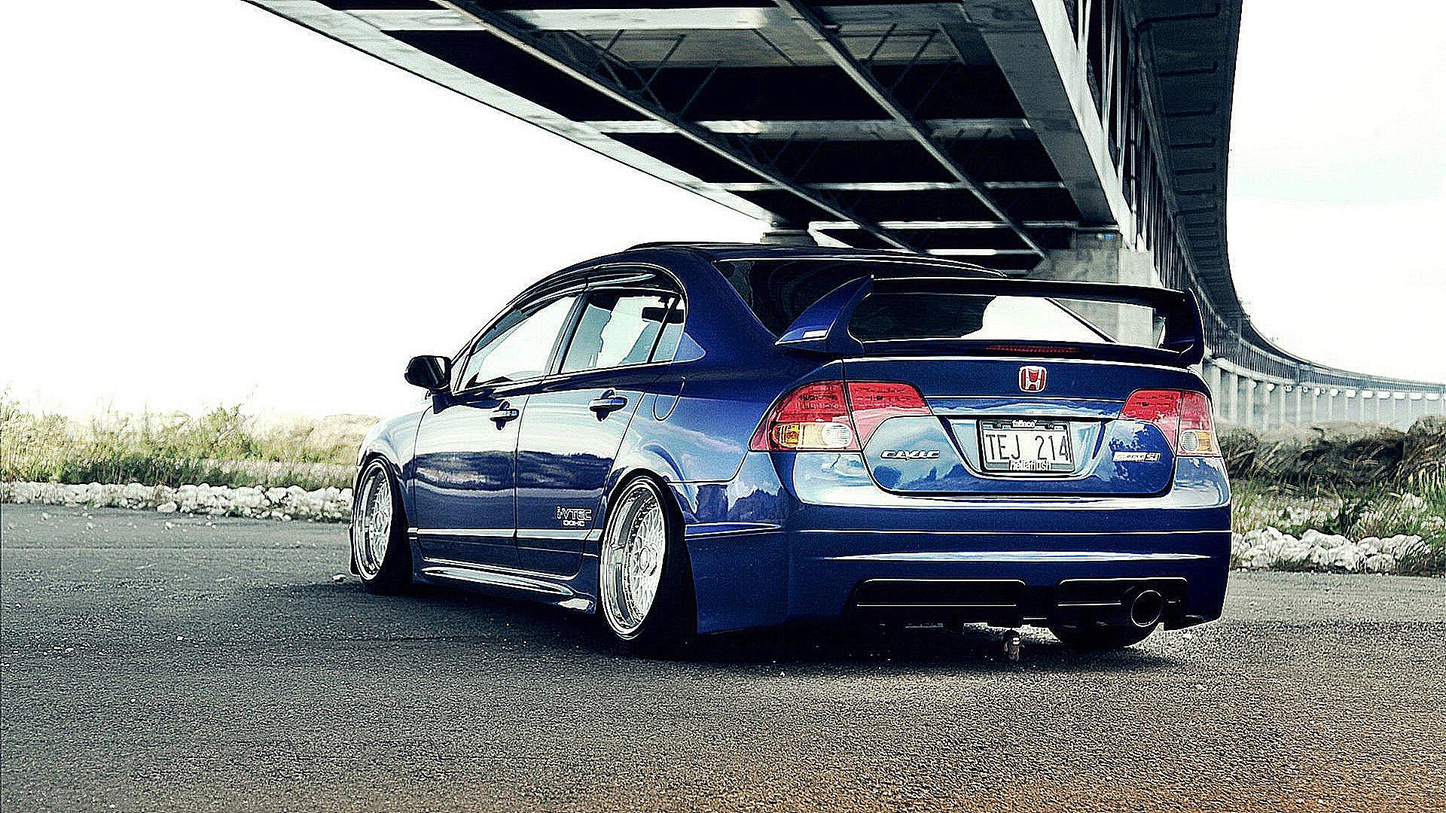Car boot: (837, 333, 1191, 504)
Fender - -F-L-: (365, 399, 431, 553)
Fender - -R-L-: (585, 343, 800, 562)
Passenger-s door - -F-L-: (411, 255, 573, 582)
Passenger-s door - -R-L-: (515, 253, 685, 582)
Rear bumper: (663, 444, 1239, 641)
Rear light - -L-: (743, 374, 936, 457)
Rear light - -R-: (1115, 380, 1230, 462)
Side bumper - -L-: (396, 524, 613, 622)
Side mirror - -L-: (396, 349, 466, 408)
